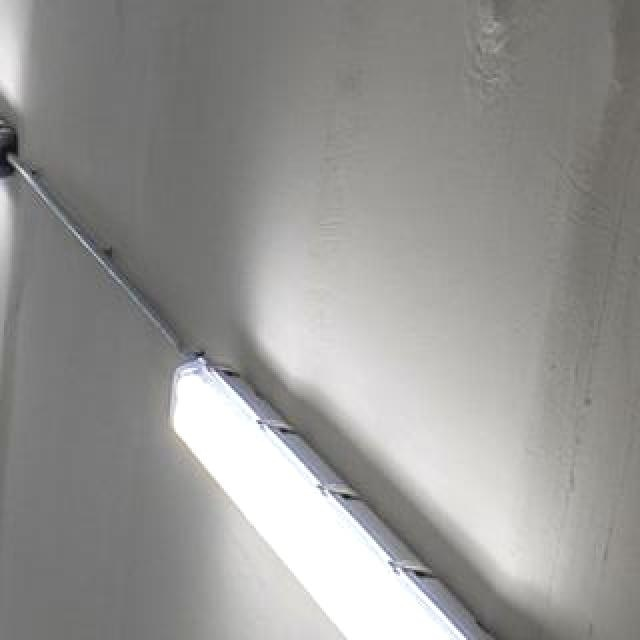fluorescent tube: (118, 342, 556, 640), (0, 22, 34, 194)
